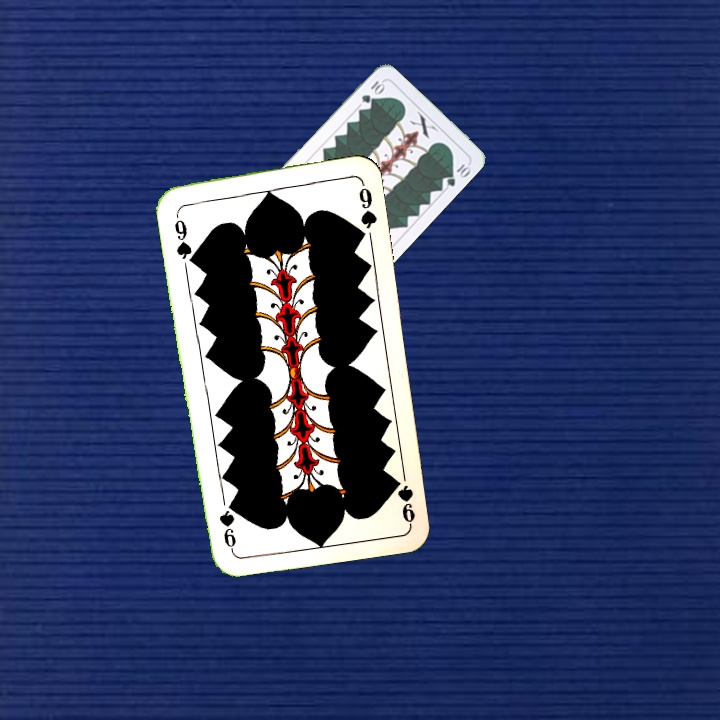G10: (357, 77, 387, 106)
G9: (389, 466, 418, 526), (170, 206, 197, 264)
